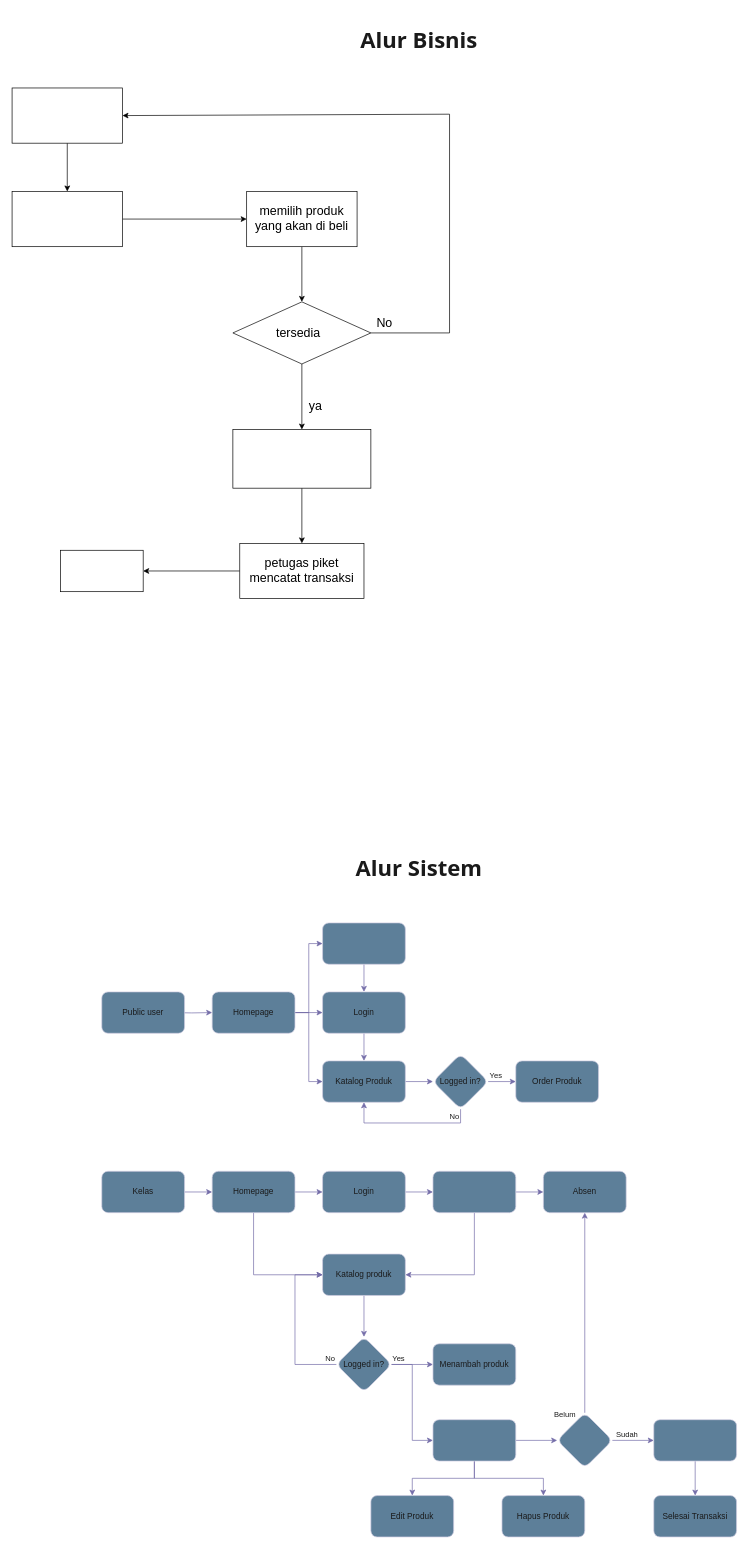
Some shapes in this 749 by 1549 pixel diagram are drawn without their labels. The shapes that lost their labels are listed below. From the top down, each one's box as (x1, y1, x2, y2) in pixels, then its label:
(11, 87, 122, 143): pelanggan
(11, 191, 122, 247): datang ke spw
(232, 429, 371, 488): membeli produk dan melakukan pembayaran
(60, 550, 143, 592): selesai
(322, 922, 405, 964): Registrasi
(432, 1171, 516, 1213): Dashboard
(432, 1419, 516, 1461): Detail Produk
(556, 1412, 612, 1468): Sudah absen?
(653, 1419, 737, 1461): Transaksi
